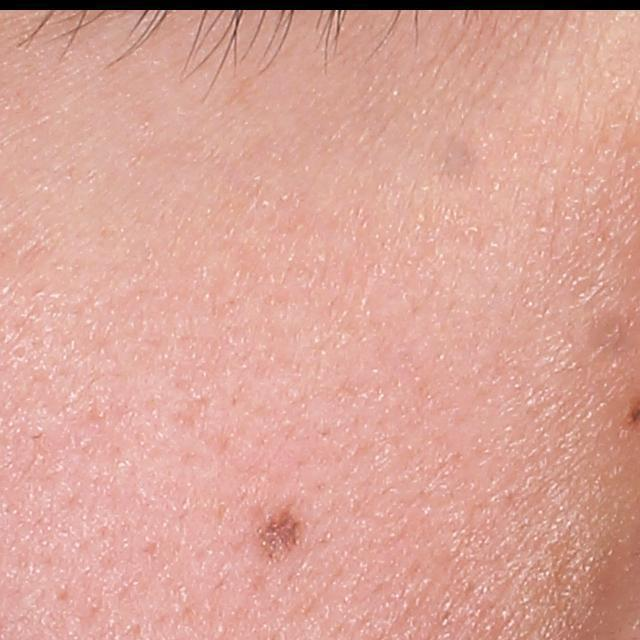nevus: (255, 503, 307, 569)
